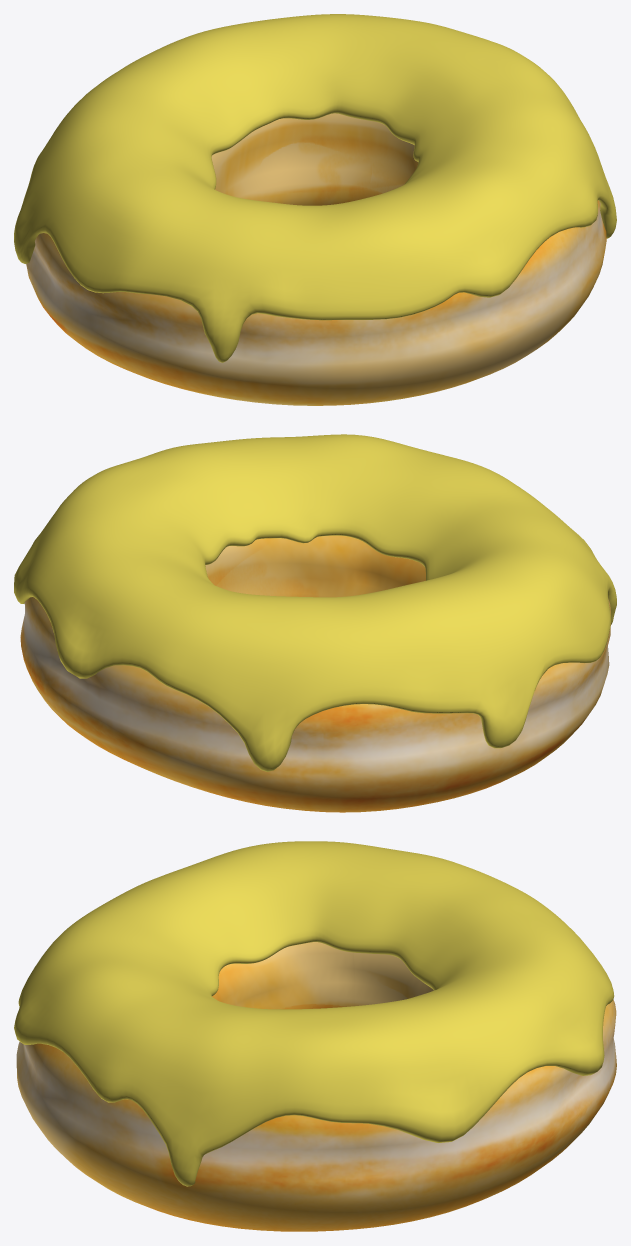
Rendered from Donut.gltf.
The picture shows the model from 3 angles, top to bottom: view 1: azimuth 30°, elevation 25°; view 2: azimuth 150°, elevation 25°; view 3: azimuth 270°, elevation 25°; orthographic projection. The views are drawn at different scales.
Parts seen in each view (by area): view 1: Icing, Donut; view 2: Icing, Donut; view 3: Icing, Donut.
Boxes of the visible parts, x1,y1,x2,y2 form: Icing: (14, 14, 616, 362); Donut: (26, 113, 606, 405); Icing: (14, 434, 616, 771); Donut: (20, 535, 610, 812); Icing: (14, 841, 614, 1186); Donut: (16, 942, 616, 1231).
Size of the model in its own units: 0.1435 by 0.0559 by 0.1421.
Materials: 2 (1 with a texture image).
